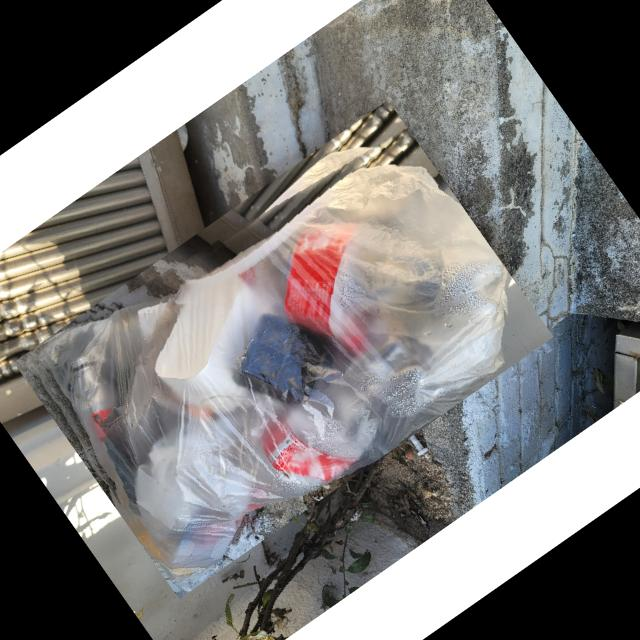other_trashbag: (36, 159, 500, 588)
